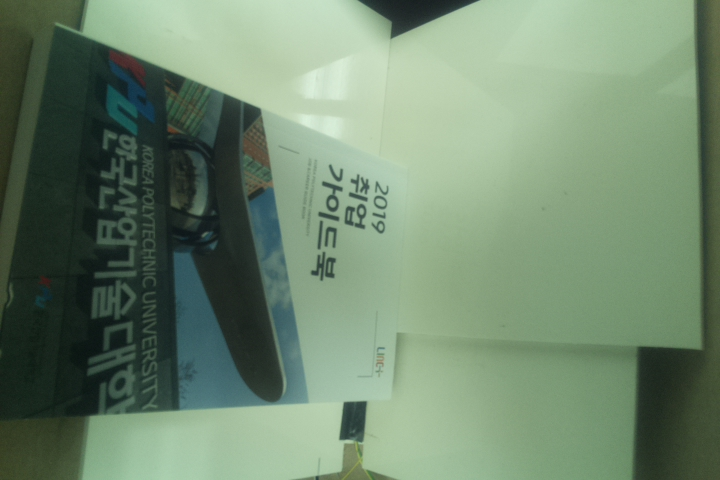book: (1, 22, 414, 424)
